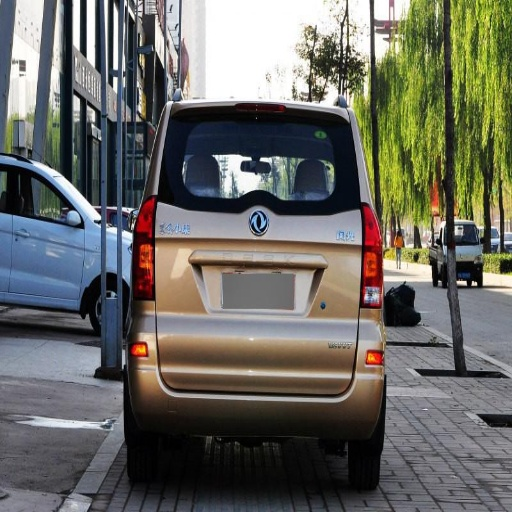back_bumper: (135, 360, 387, 435)
back_left_light: (130, 199, 155, 301)
trunk: (148, 208, 377, 391)
